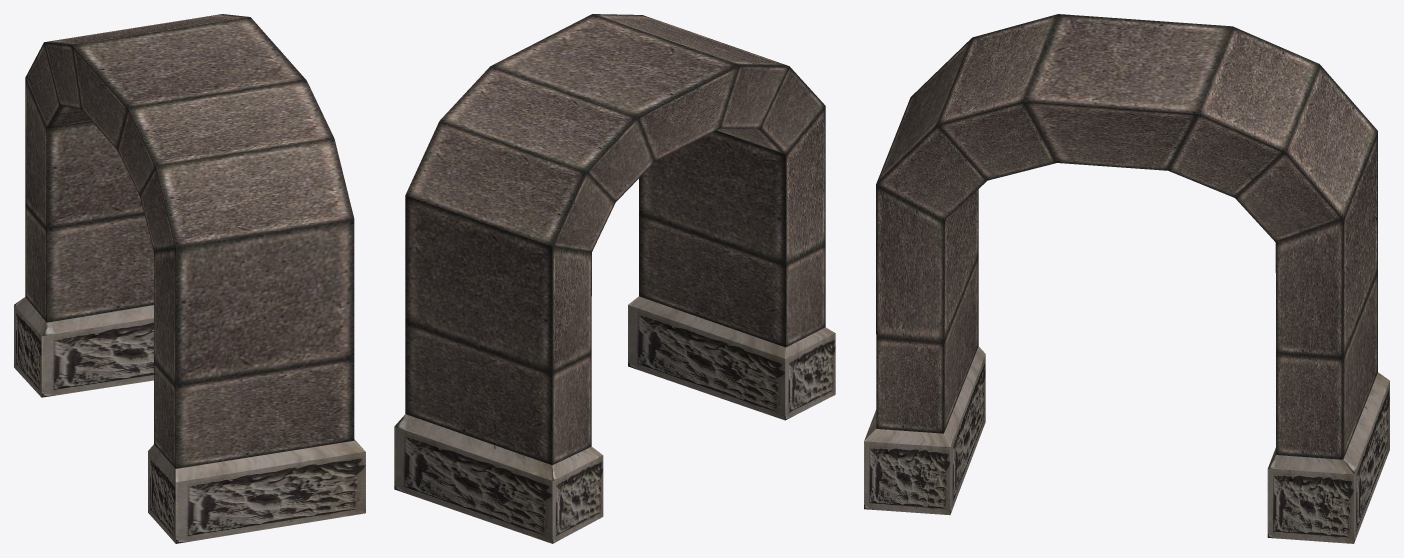
Rendered from doorx36.obj.
3 views of the same model, side by side, from view 1: azimuth 30°, elevation 25°; view 2: azimuth 150°, elevation 25°; view 3: azimuth 270°, elevation 25° (orthographic). The views are drawn at different scales.
Parts seen in each view (by area): view 1: doorx36; view 2: doorx36; view 3: doorx36.
Part boxes in pixels (x1=…): doorx36: x1=14, y1=14, x2=365, y2=543; doorx36: x1=394, y1=14, x2=835, y2=543; doorx36: x1=864, y1=14, x2=1389, y2=543.
Bounding box in the file's own units: 85.75 × 131 × 150.
